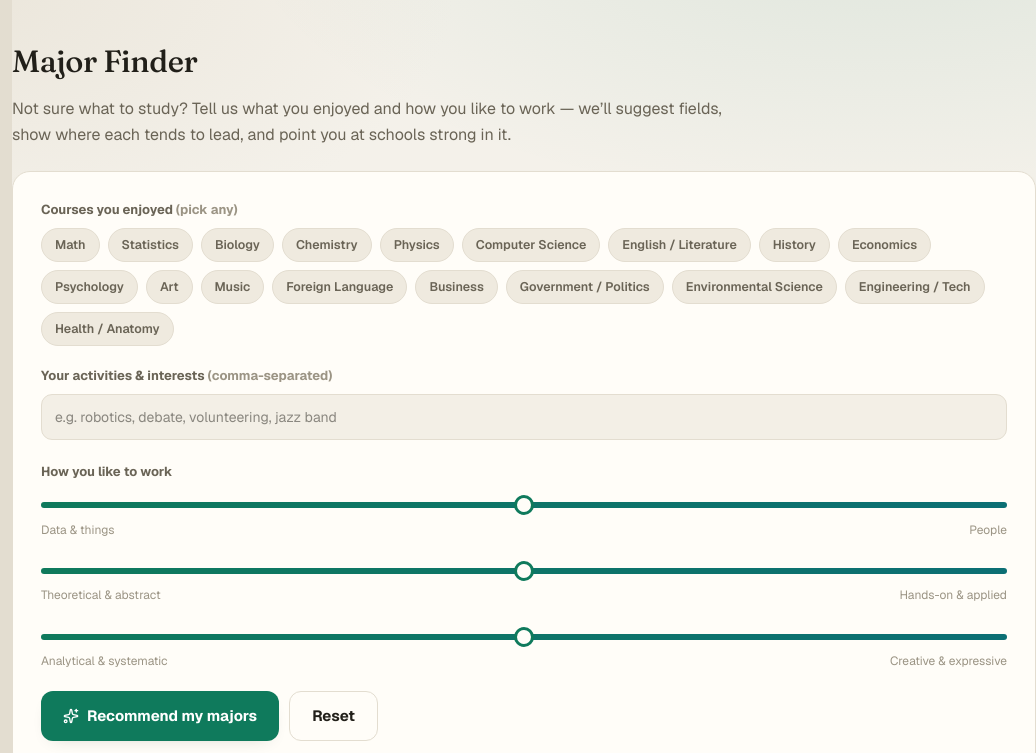
Test: MajorFinder — federal degree data › reports how many schools award degrees in the area
Click the button "Recommend my majors" at (160, 716), box left=41, top=692, right=279, bottom=742
(page scrolled)
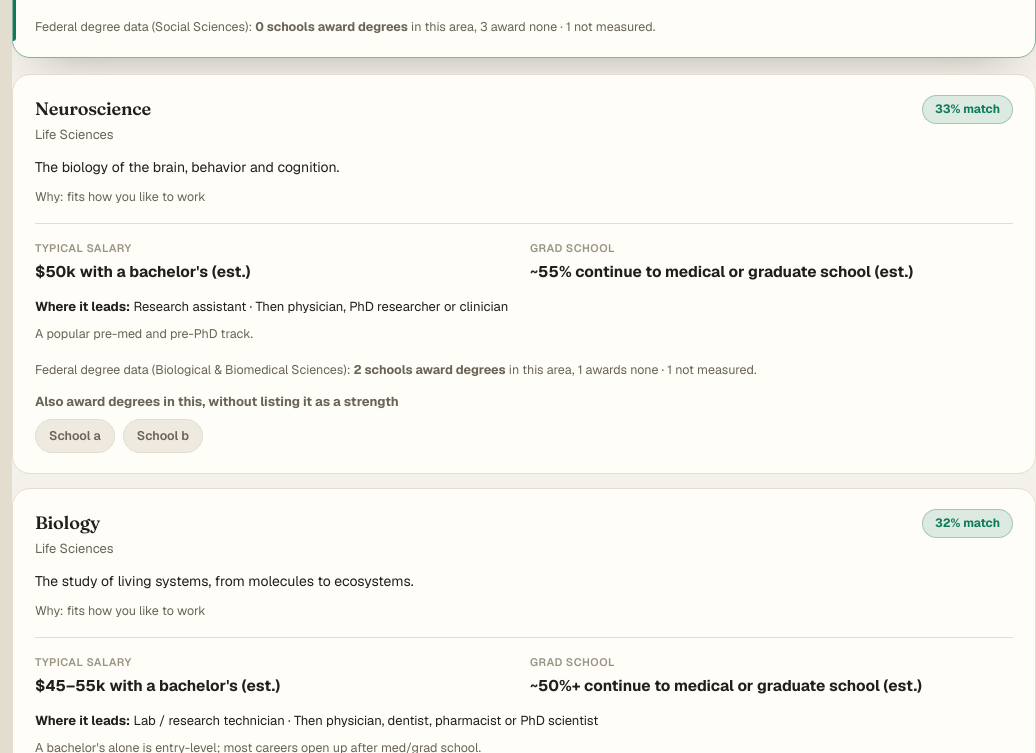
Result: the text "2 schools award degrees" is shown at left=354, top=361, right=506, bottom=378
